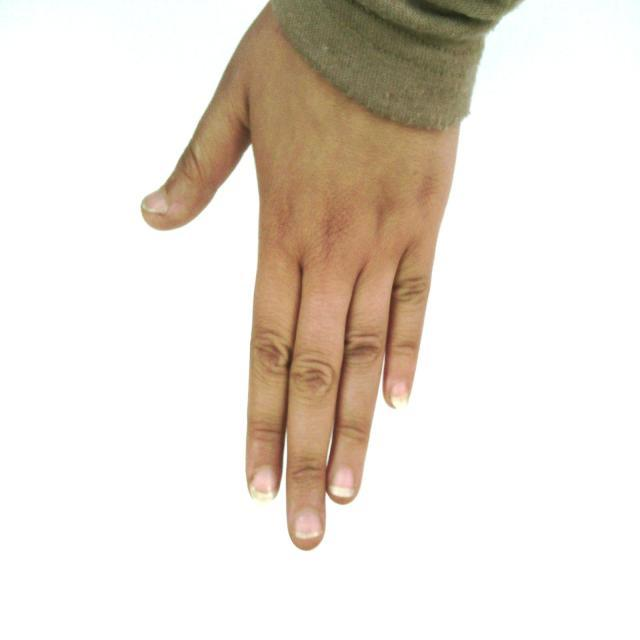Fingernail: (251, 466, 279, 502), (328, 464, 355, 497), (294, 508, 321, 539), (143, 191, 168, 214), (391, 378, 409, 409)
